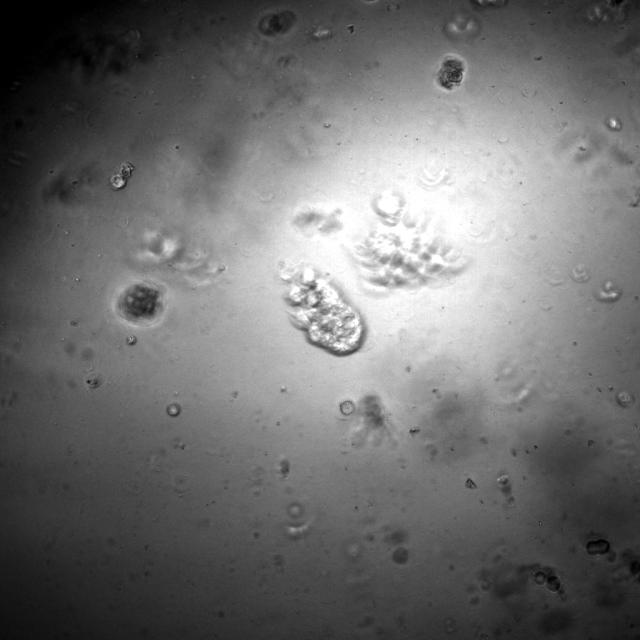organoid: (353, 190, 466, 289), (284, 267, 364, 354), (132, 229, 224, 287), (119, 283, 161, 320), (292, 204, 342, 235), (258, 10, 296, 36), (438, 58, 463, 90), (532, 569, 561, 592), (109, 162, 132, 188), (594, 280, 621, 302), (497, 474, 515, 507), (586, 538, 610, 555), (616, 390, 634, 407), (392, 547, 408, 564), (339, 400, 354, 415), (606, 116, 622, 130), (166, 403, 181, 416), (126, 334, 136, 344)
